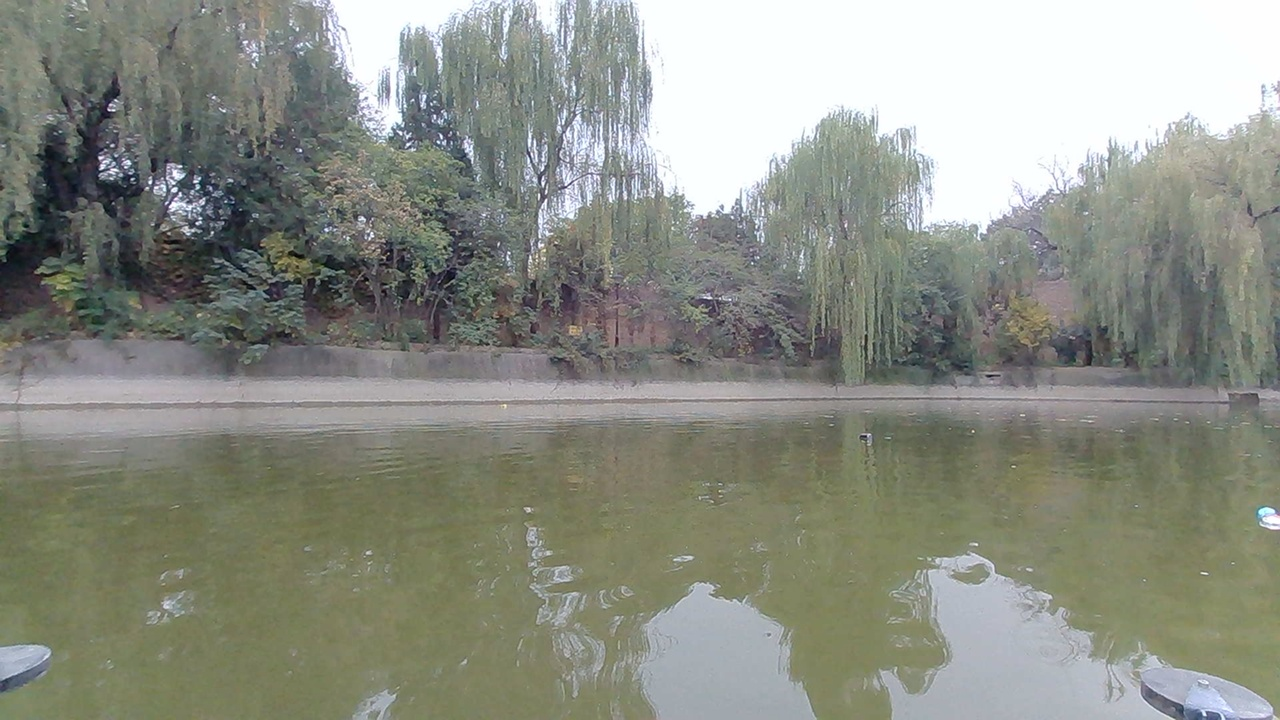bottle: (1251, 501, 1280, 544), (848, 420, 876, 446)
